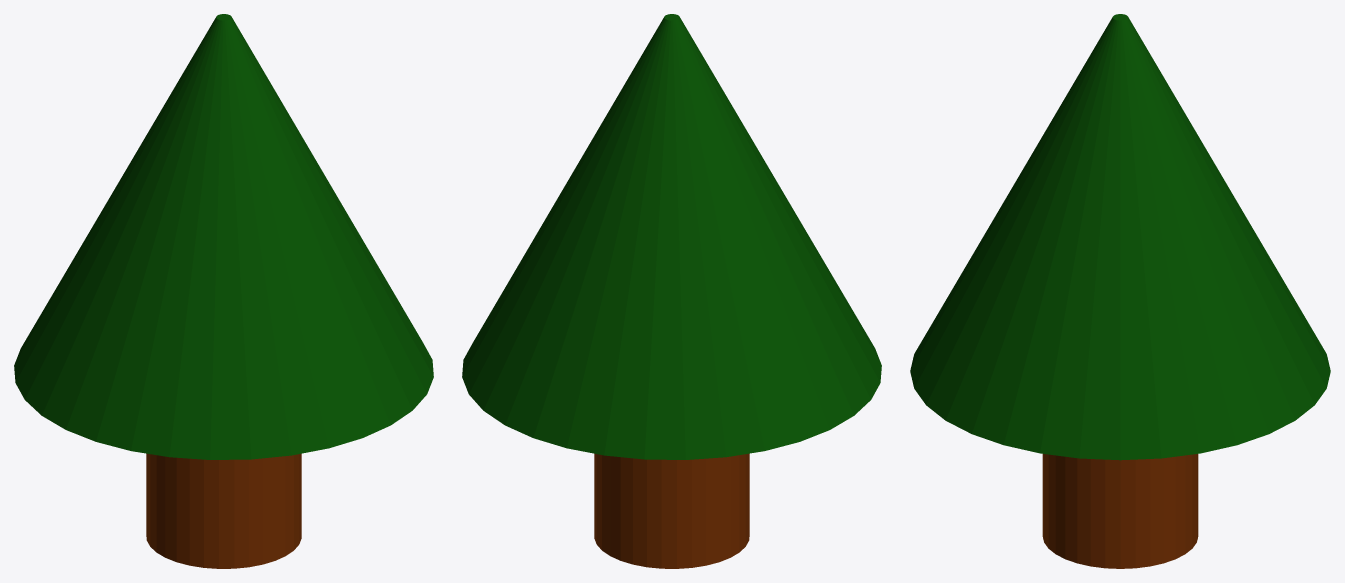
The model's file is three.glb.
The picture shows the model from 3 angles, left to right: view 1: azimuth 30°, elevation 25°; view 2: azimuth 150°, elevation 25°; view 3: azimuth 270°, elevation 25°; orthographic projection.
Parts seen in each view (by area): view 1: Circle; view 2: Circle; view 3: Circle.
Boxes of the visible parts, x1,y1,x2,y2 form: Circle: (14,14,433,568); Circle: (462,14,881,568); Circle: (910,14,1330,568).
Size of the model in its own units: 1.62 by 2.2 by 1.62.
